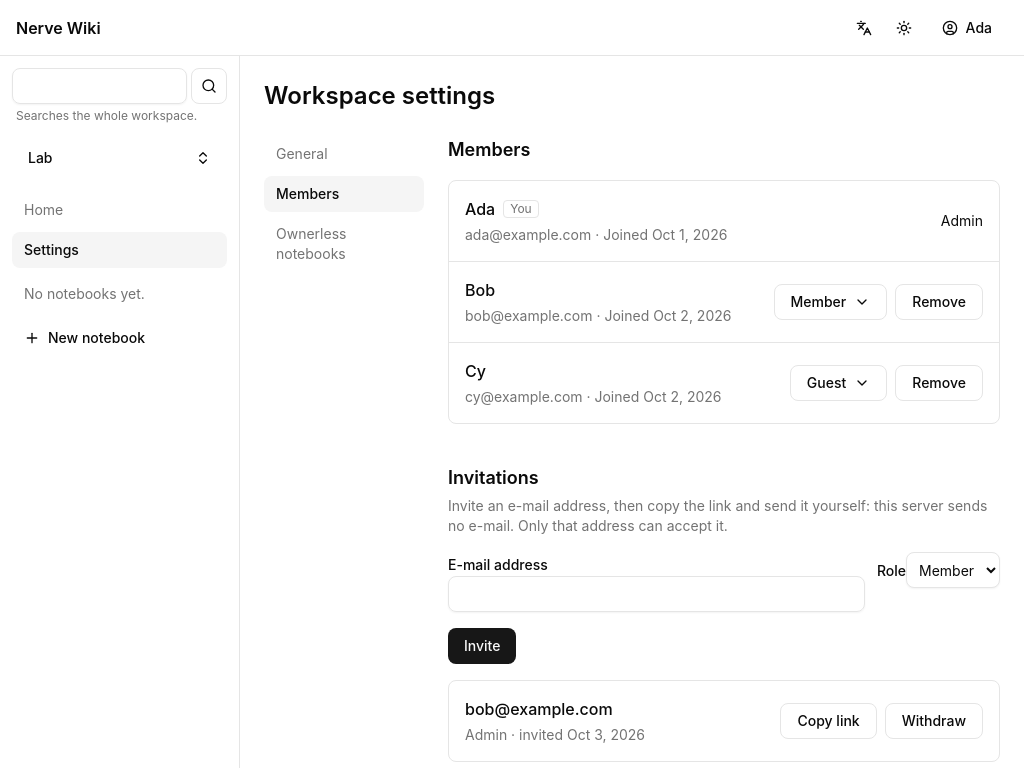
an admin removes a member once confirmed, and the invitations pending to them go too: removed
Expected: the text "bob@example.com" is shown, [465,699,613,719]
Step 1. Click the button with aria-label "Remove Bob (bob@example.com)" → (939, 302), box [895,284,983,320]
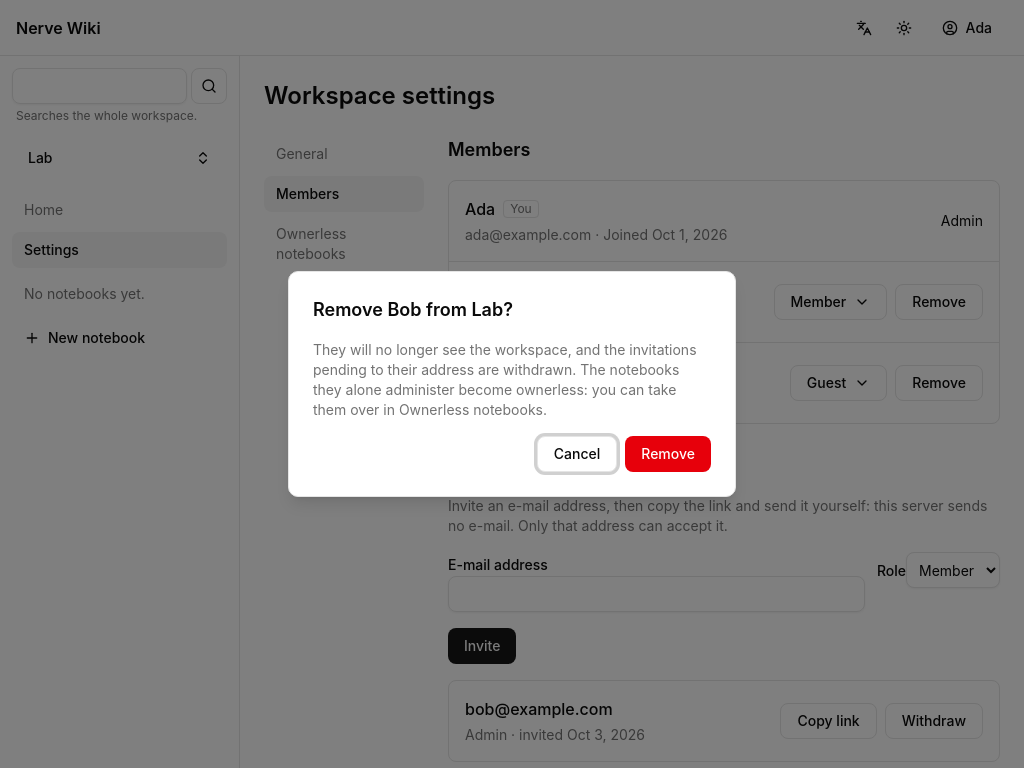
Step 2. Click the button "Remove" → (668, 454), box [625,436,711,472]
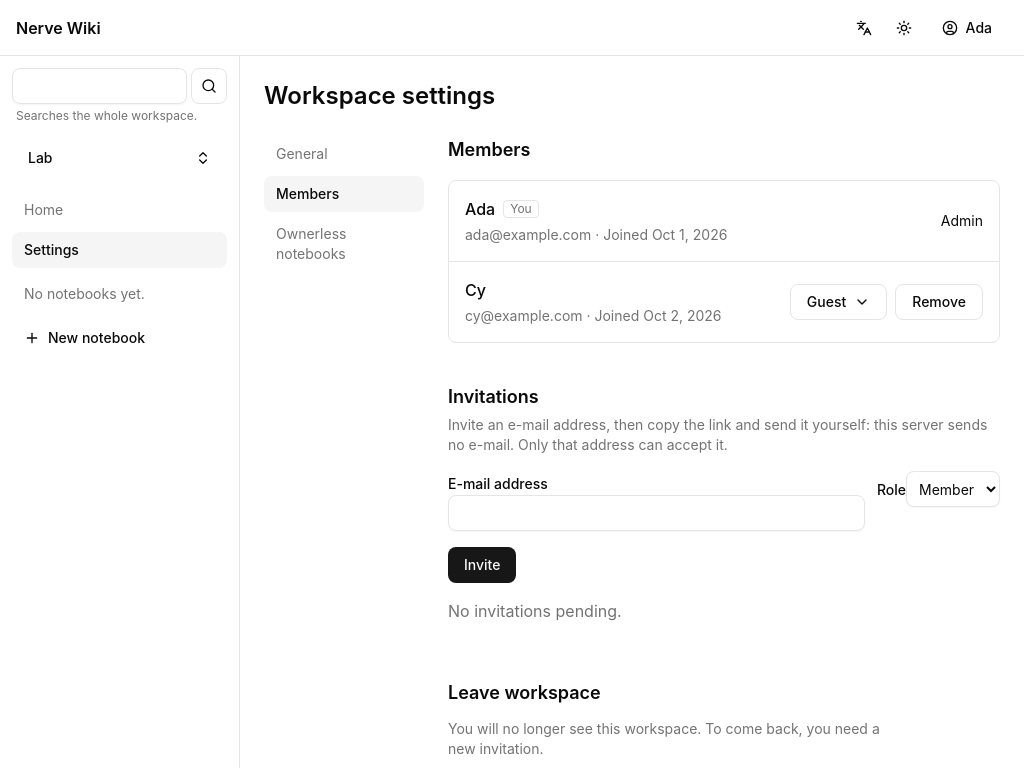
Now the dialog is gone
Now the text "No invitations pending." is shown, box [448,601,622,621]
